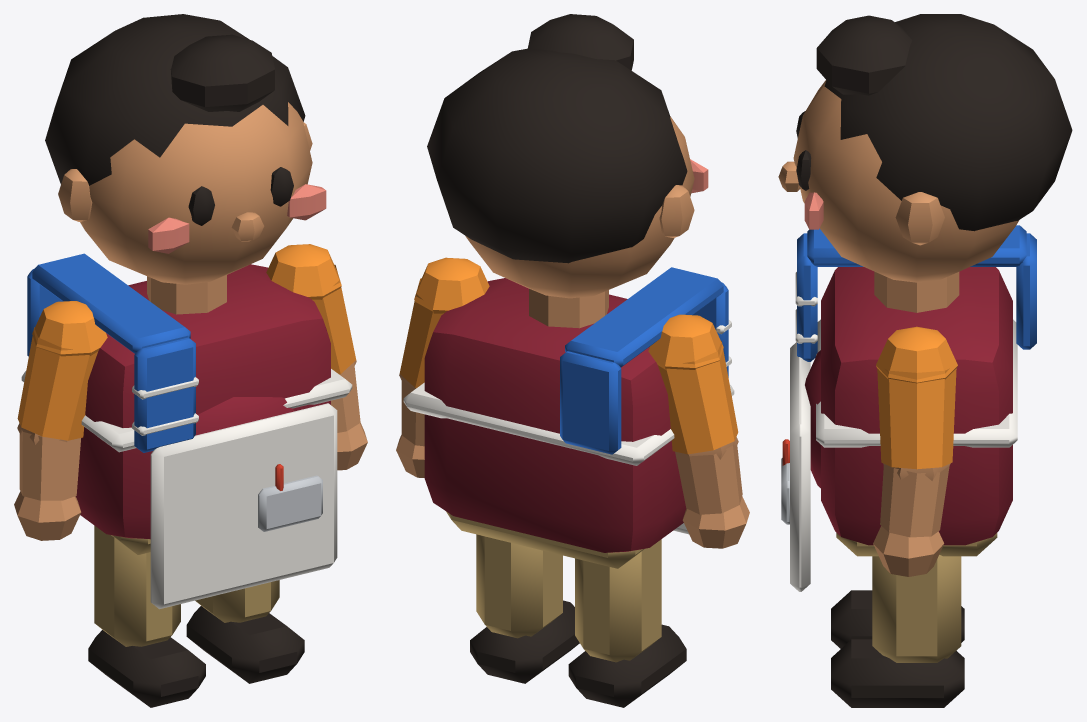
The model's file is pappu.glb.
3 views of the same model, side by side, from view 1: azimuth 30°, elevation 25°; view 2: azimuth 150°, elevation 25°; view 3: azimuth 270°, elevation 25° (orthographic). The views are drawn at different scales.
Visible parts, largest first — view 1: body, head, arm_r, leg_r, leg_l, arm_l; view 2: body, head, arm_r, leg_r, leg_l, arm_l; view 3: head, body, arm_l, leg_l, leg_r.
Boxes of the visible parts, <box> form: body: <box>21,253,352,609</box>; head: <box>45,14,326,284</box>; arm_r: <box>14,301,107,540</box>; leg_r: <box>88,525,205,707</box>; leg_l: <box>186,580,304,683</box>; arm_l: <box>266,244,367,470</box>; body: <box>403,267,734,568</box>; head: <box>427,14,708,298</box>; arm_r: <box>648,314,749,548</box>; leg_r: <box>568,539,686,707</box>; leg_l: <box>470,534,579,683</box>; arm_l: <box>396,257,489,477</box>; head: <box>778,14,1072,282</box>; body: <box>781,225,1036,591</box>; arm_l: <box>873,326,957,576</box>; leg_l: <box>831,555,964,707</box>; leg_r: <box>831,590,964,648</box>.
Size of the model in its own units: 0.598 by 1.05 by 0.429.
1 material, 1 textured.
